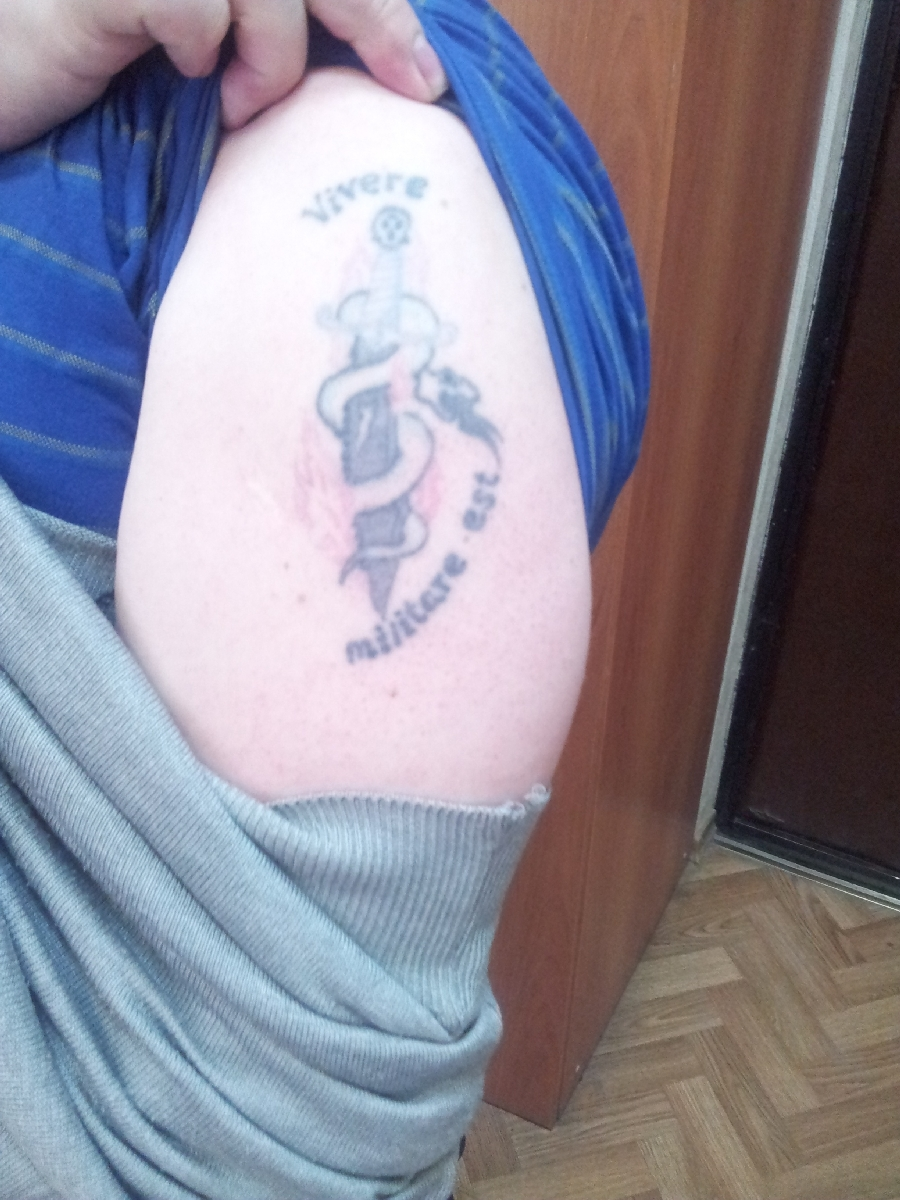tatu7_zmeya: (290, 134, 518, 716)
